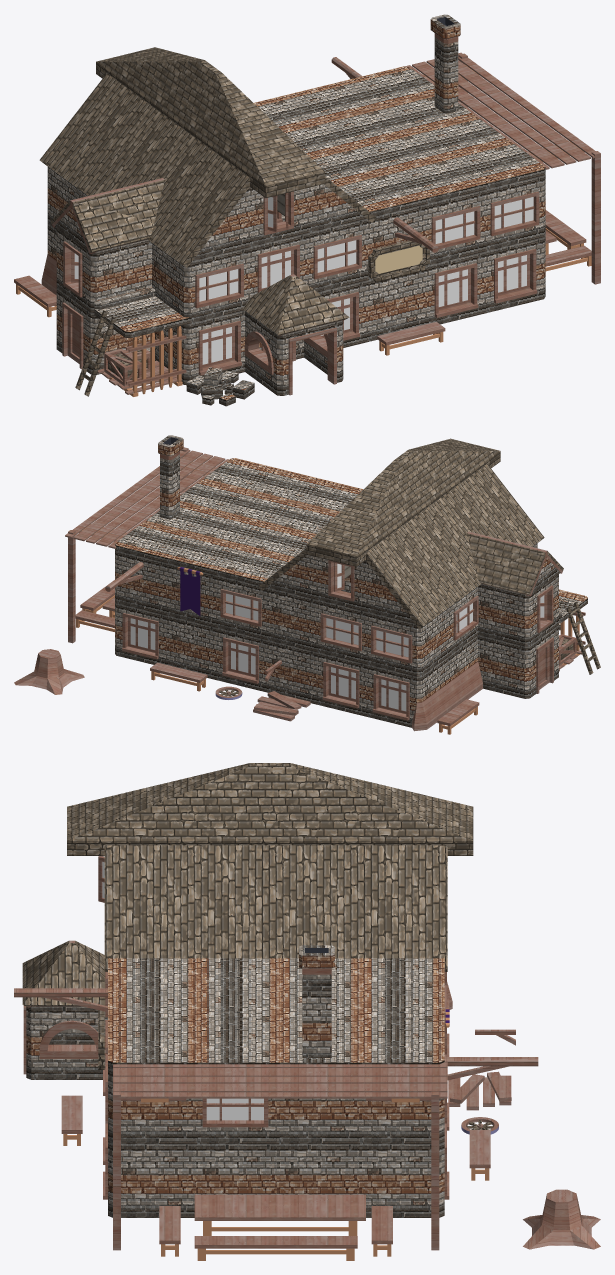
The model's file is tavernv2.fbx.
3 renders of one model, top to bottom at view 1: azimuth 30°, elevation 25°; view 2: azimuth 150°, elevation 25°; view 3: azimuth 270°, elevation 25°, orthographic. The views are drawn at different scales.
Visible parts, largest first — view 1: mergedBlocks; view 2: mergedBlocks; view 3: mergedBlocks.
Part boxes in pixels (x1,y1,x2,y2): mergedBlocks: [14, 14, 600, 406]; mergedBlocks: [14, 435, 600, 734]; mergedBlocks: [14, 763, 600, 1260].
Bounding box in the file's own units: 88.55 × 40.05 × 71.93.
Materials: 13 (6 with a texture image).
